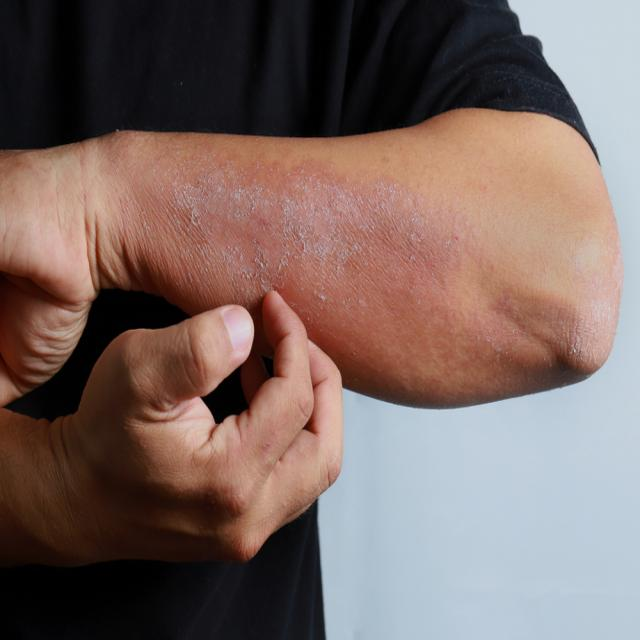eczema: (198, 177, 442, 305)
